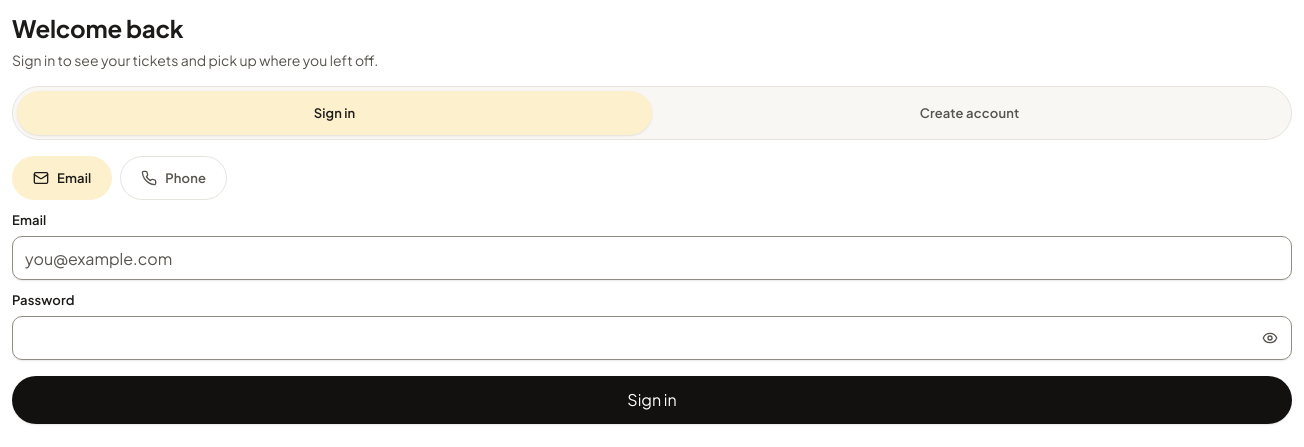
AuthPanel › fails phone sign-in instantly, with a sentence naming the provider
Click the tab "Phone". click: (174, 178)
box: [120,156,227,200]
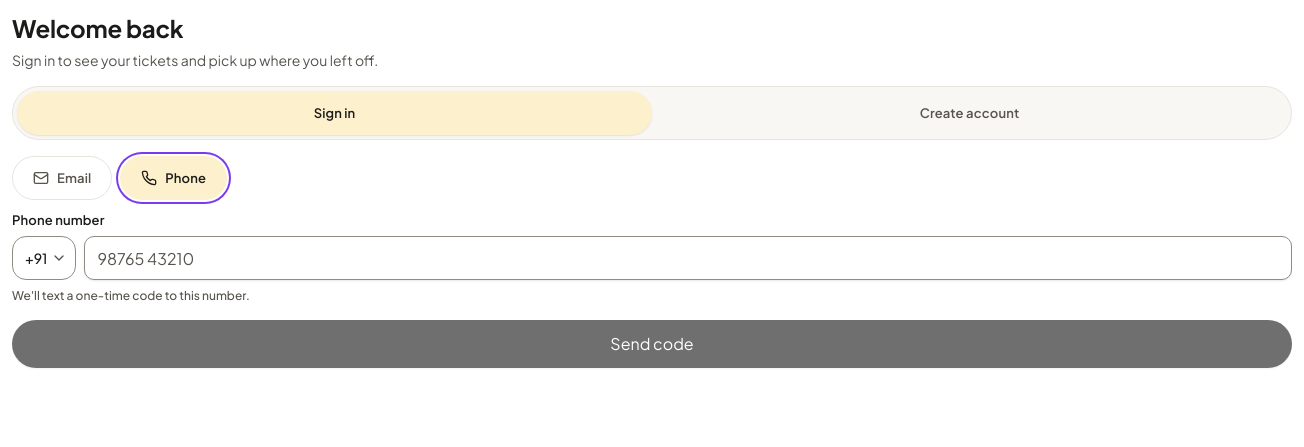
Type "+919876543210" into the field labelled "Phone number". click: (688, 258)
box: [84,236,1292,280]
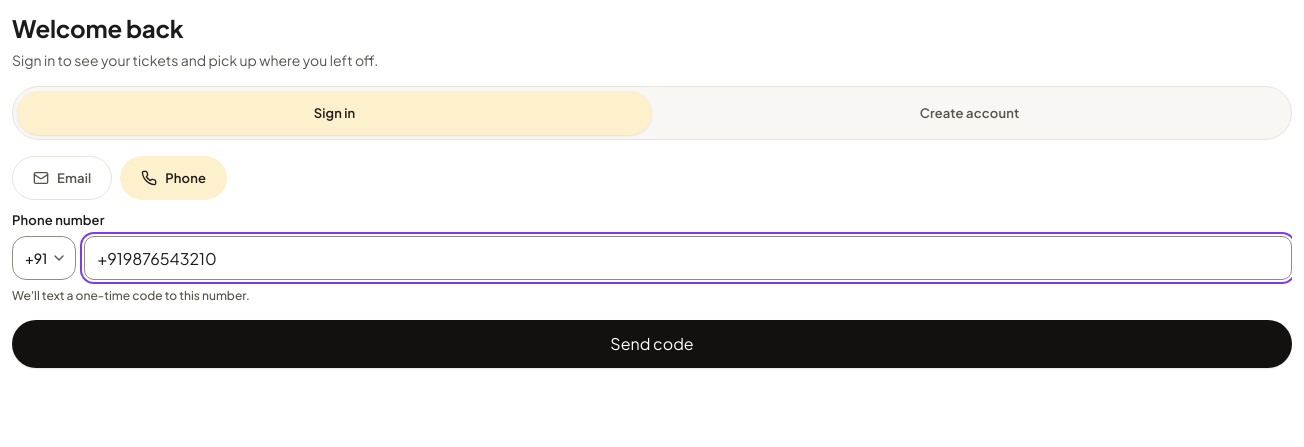
Click the button "Send code". click: (652, 344)
box: [12,320,1292,368]
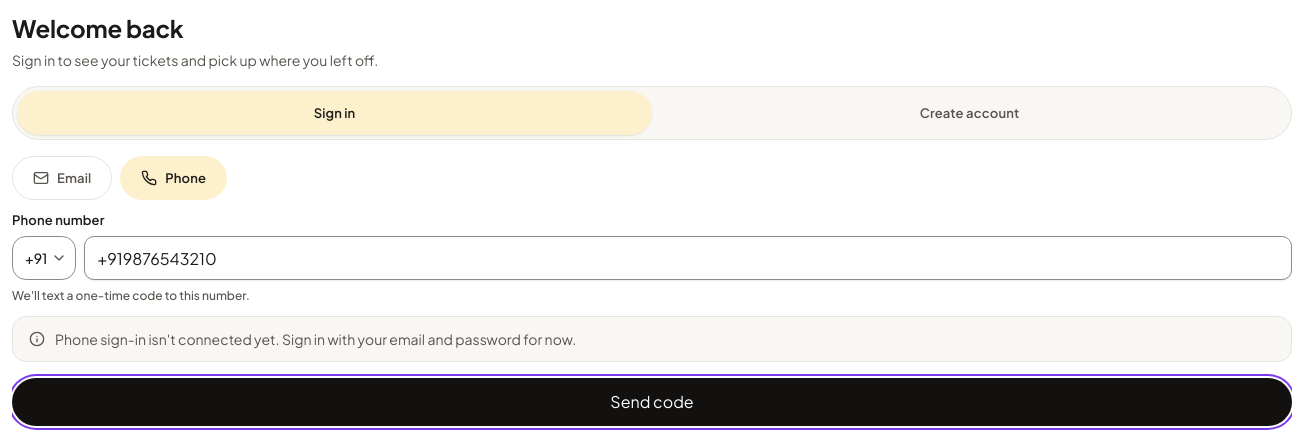
expect the message shows "Phone sign-in isn't connected yet": met, box [55,330,576,348]
